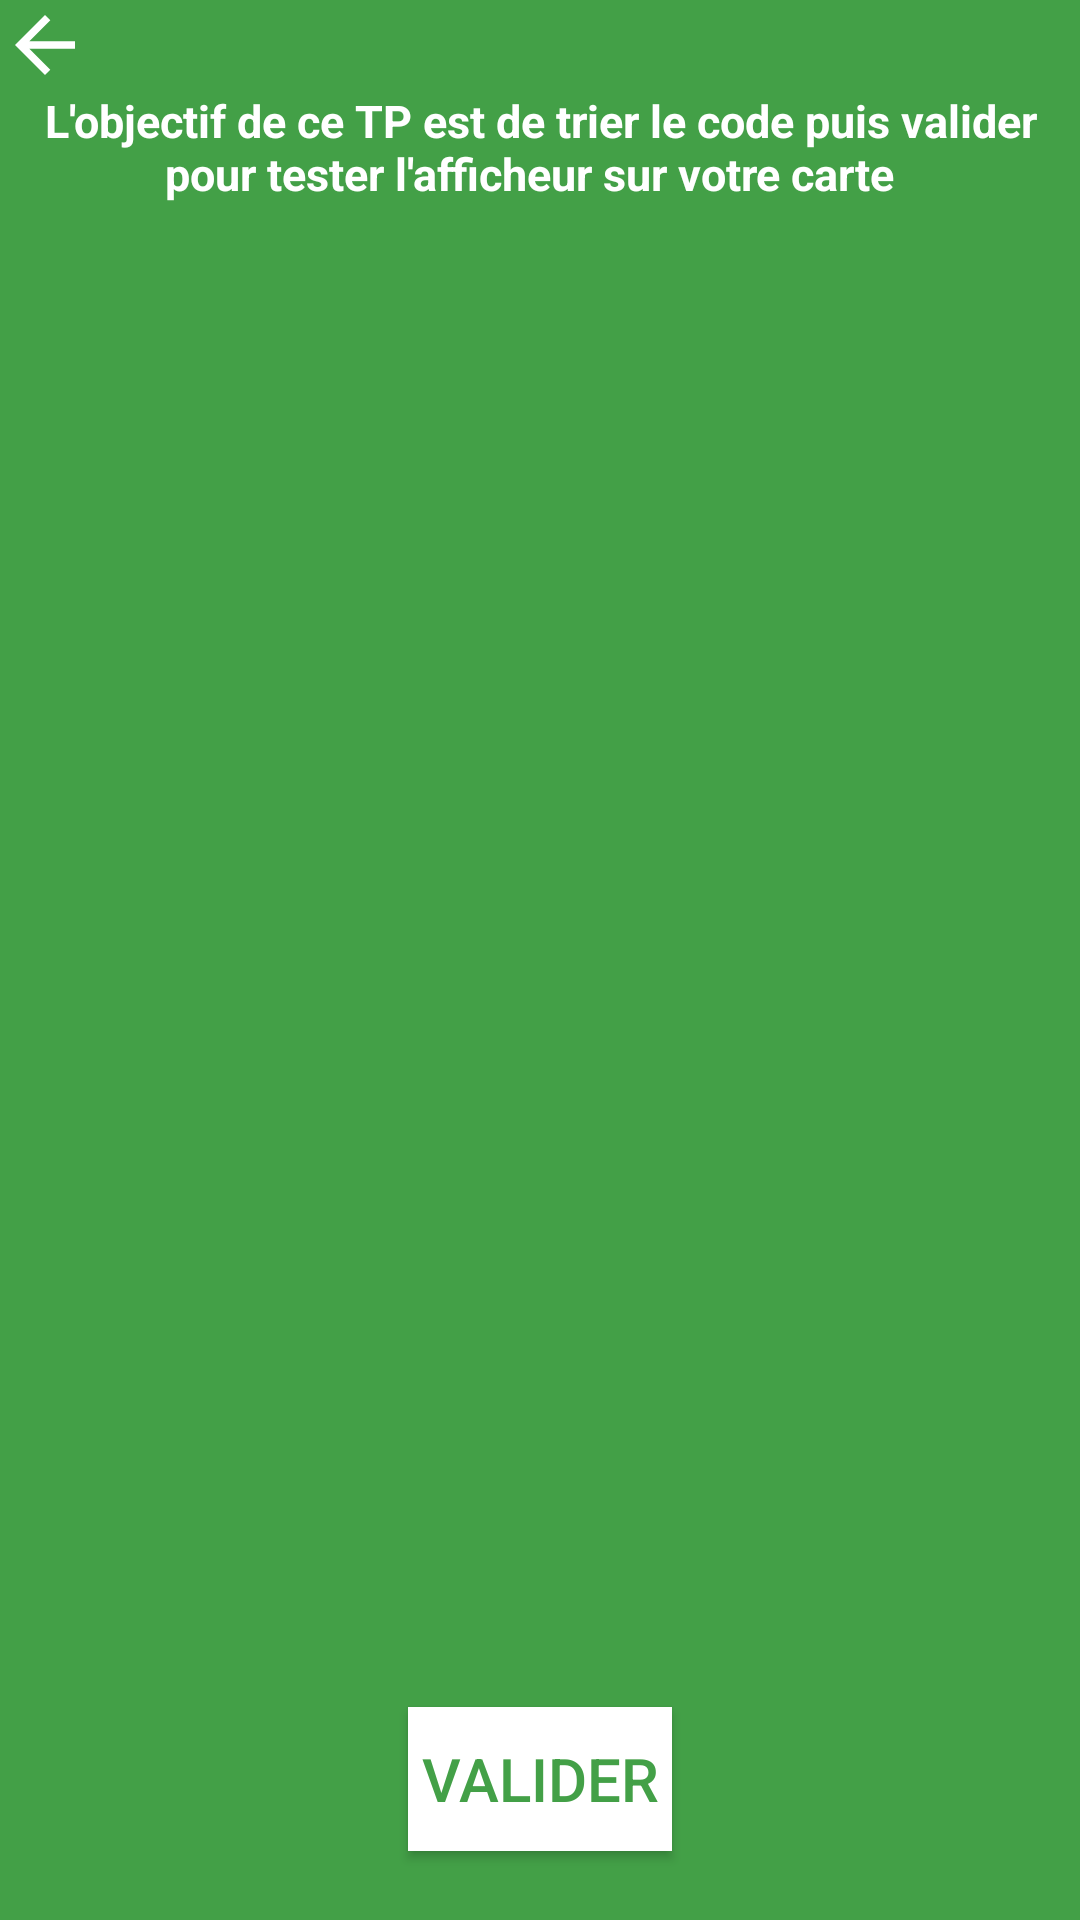

Icon bounding boxes for this 1080*1920 phone screenshot, format (x1,y1,x2,y2):
ret: (15,15,75,75)
